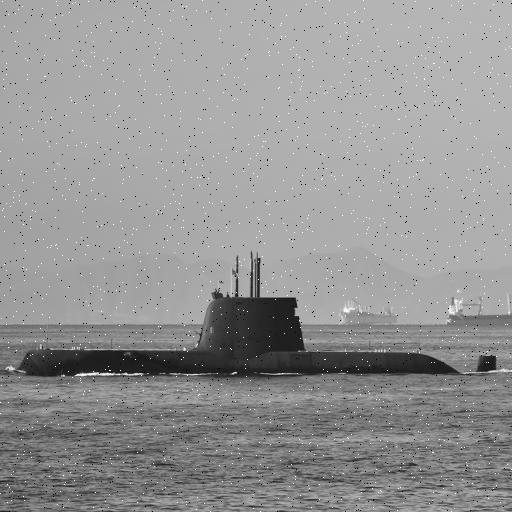submarine: (9, 250, 497, 377)
